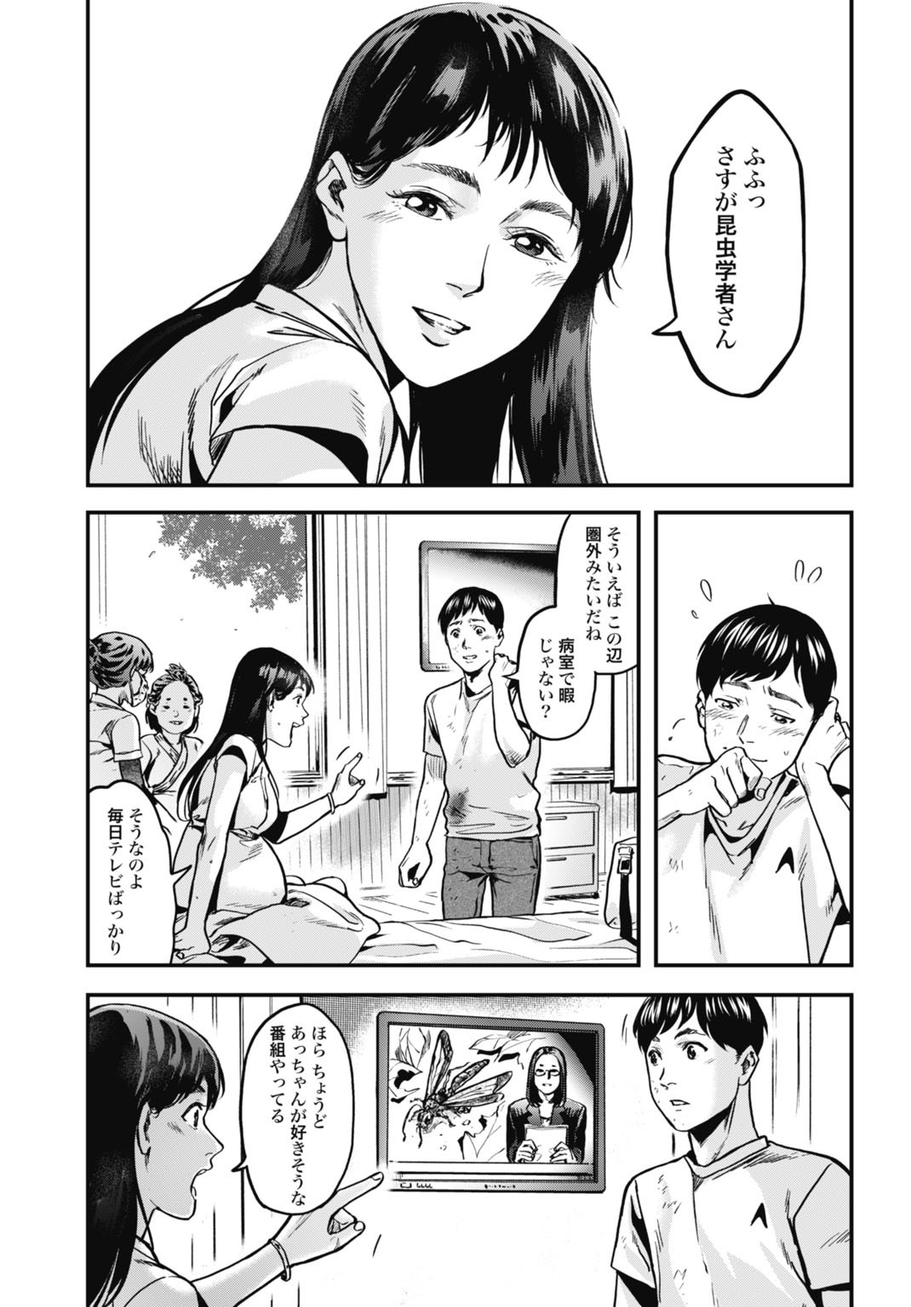bubbles: (650, 87, 811, 406), (498, 514, 637, 746), (224, 999, 363, 1219), (89, 772, 199, 964)
